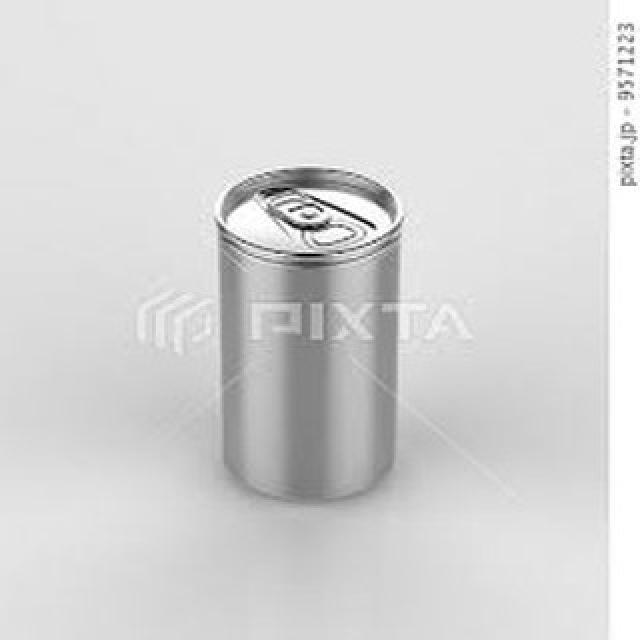can: (206, 166, 414, 504)
